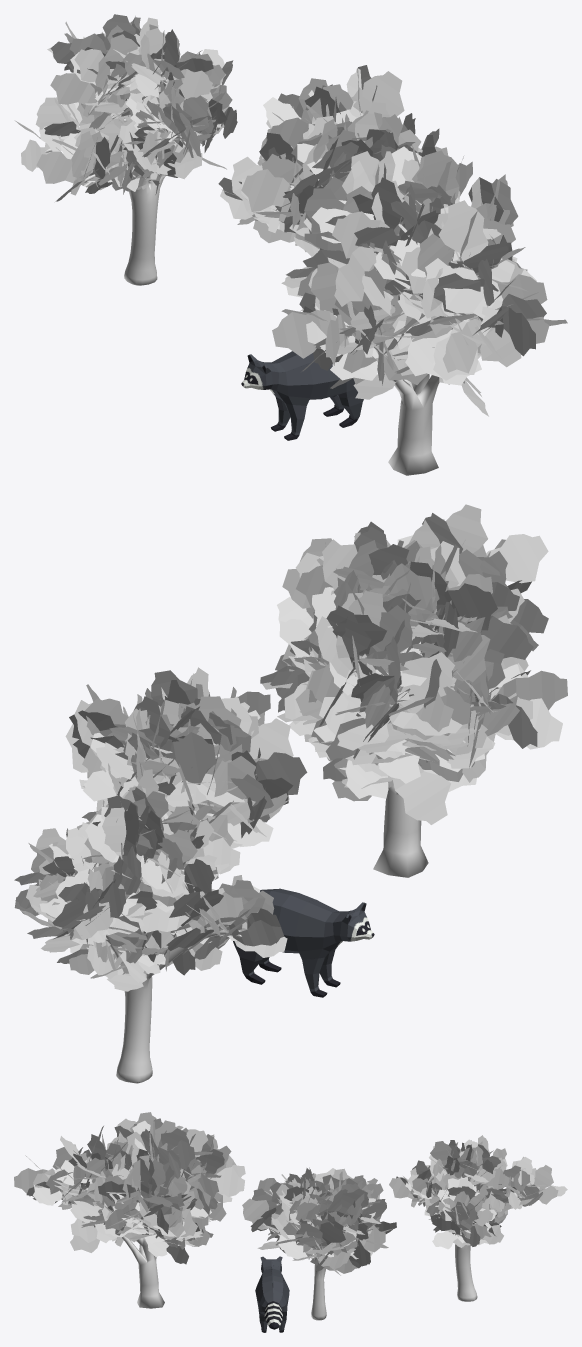
The model's file is FORESTT.glb.
The picture shows the model from 3 angles, top to bottom: view 1: azimuth 30°, elevation 25°; view 2: azimuth 150°, elevation 25°; view 3: azimuth 270°, elevation 25°; orthographic projection. The views are drawn at different scales.
Parts seen in each view (by area): view 1: v0.2, Cube.001, Cube.002, Tree_Branch.166_Tree_Branch, Tree_Branch.134, Tree_Branch.192_Tree_Branch, Tree_Branch.1131, Tree_Branch.1125, Tree_Branch.961_Tree_Branch, Tree_Branch.039_Tree_Branch, Tree_Branch.183_Tree_Branch, Tree_Branch.548 (+36 smaller); view 2: v0.2, Cube.002, Cube.001, Tree_Branch.042_Tree_Branch, Tree_Branch.1130, Tree_Branch.908, Tree_Branch.070_Tree_Branch, Tree_Branch.137, Tree_Branch.183_Tree_Branch, Tree_Branch.192_Tree_Branch, Tree_Branch.159_Tree_Branch, Tree_Branch.772 (+39 smaller); view 3: v0.2, Cube.001, Cube.002, Cube, Tree_Branch.138_Tree_Branch, Tree_Branch.870, Tree_Branch.064, Tree_Branch.597, Tree_Branch.650, Tree_Branch.078, Tree_Branch.133_Tree_Branch, Tree_Branch.1132 (+26 smaller).
Boxes of the visible parts, x1,y1,x2,y2 form: v0.2: (241, 351, 363, 440); Cube.001: (373, 251, 439, 475); Cube.002: (45, 72, 198, 285); Tree_Branch.166_Tree_Branch: (438, 200, 488, 267); Tree_Branch.134: (272, 310, 349, 358); Tree_Branch.192_Tree_Branch: (334, 246, 376, 306); Tree_Branch.1131: (438, 266, 497, 335); Tree_Branch.1125: (443, 319, 482, 373); Tree_Branch.961_Tree_Branch: (241, 173, 290, 222); Tree_Branch.039_Tree_Branch: (417, 150, 459, 201); Tree_Branch.183_Tree_Branch: (332, 211, 391, 258); Tree_Branch.548: (50, 73, 96, 117); v0.2: (233, 888, 374, 997); Cube.002: (63, 858, 241, 1083); Cube.001: (353, 669, 428, 877); Tree_Branch.042_Tree_Branch: (392, 764, 450, 824); Tree_Branch.1130: (486, 534, 548, 583); Tree_Branch.908: (164, 732, 216, 784); Tree_Branch.070_Tree_Branch: (396, 652, 454, 713); Tree_Branch.137: (494, 670, 567, 710); Tree_Branch.183_Tree_Branch: (444, 583, 497, 630); Tree_Branch.192_Tree_Branch: (480, 615, 533, 659); Tree_Branch.159_Tree_Branch: (445, 504, 487, 553); Tree_Branch.772: (248, 718, 293, 759); v0.2: (255, 1256, 289, 1332); Cube.001: (122, 1195, 164, 1308); Cube.002: (419, 1176, 477, 1301); Cube: (311, 1258, 326, 1320); Tree_Branch.138_Tree_Branch: (207, 1167, 244, 1197); Tree_Branch.870: (242, 1198, 268, 1229); Tree_Branch.064: (105, 1202, 141, 1230); Tree_Branch.597: (319, 1221, 345, 1254); Tree_Branch.650: (328, 1188, 368, 1217); Tree_Branch.078: (98, 1181, 139, 1202); Tree_Branch.133_Tree_Branch: (195, 1149, 224, 1173); Tree_Branch.1132: (14, 1168, 47, 1196).
Bounding box in the file's own units: 1.29 × 1.39 × 3.32.
5 materials, 1 textured.
